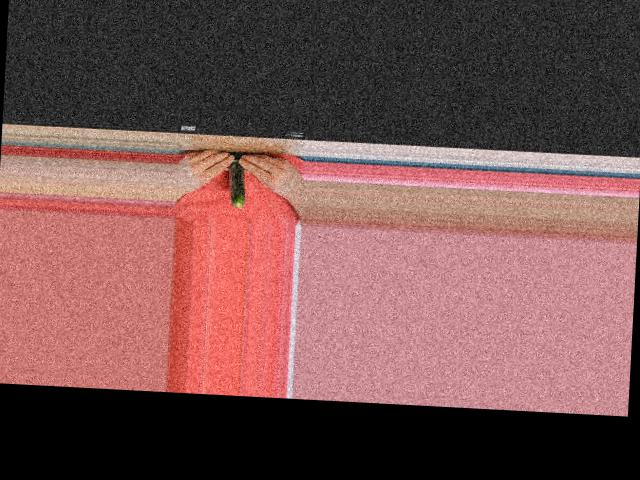cucumber: (227, 152, 248, 207)
